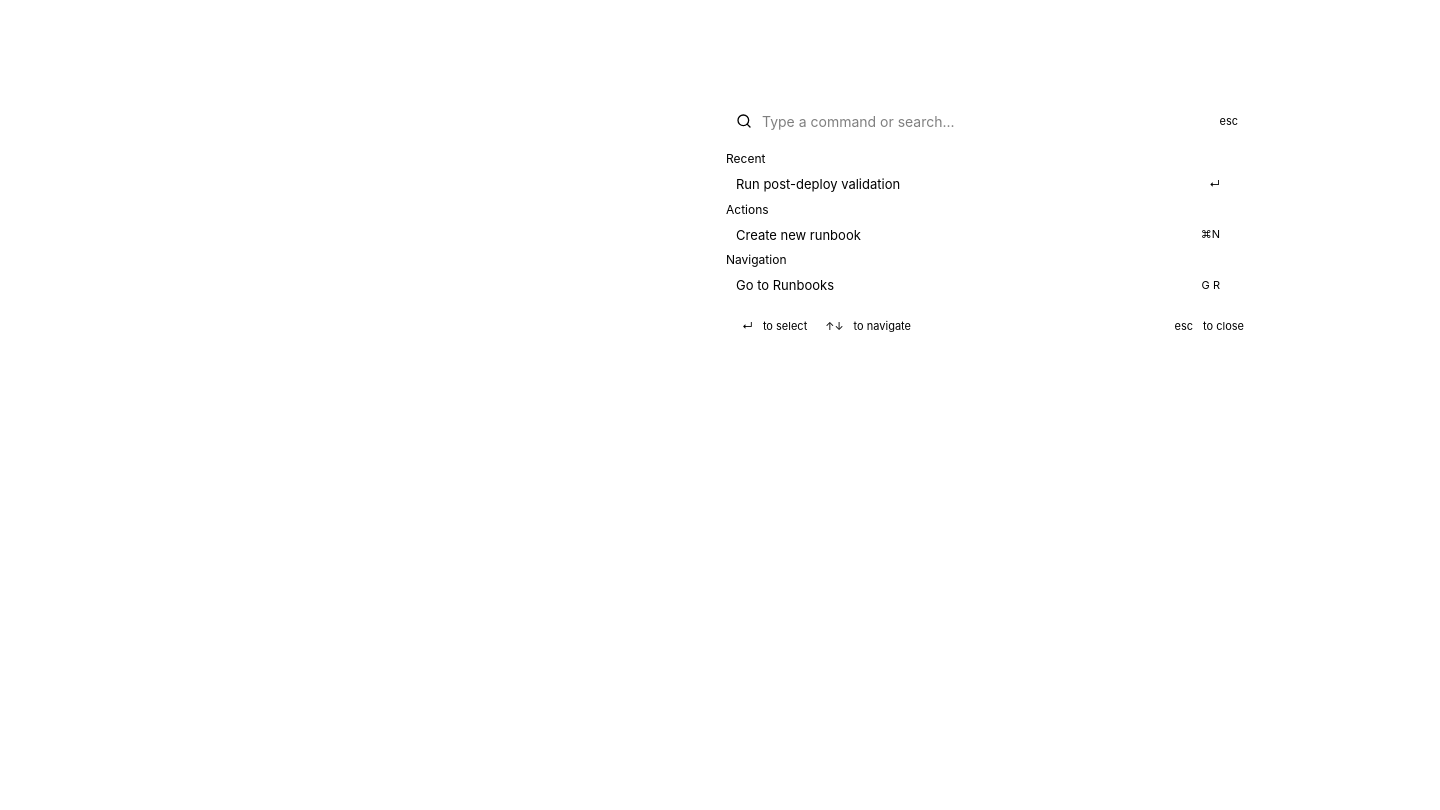
Test: CommandPalette › filters items when search input is typed
Type "validation" into the dropdown with placeholder "Type a command or search..." at x=983, y=121, box [762,97,1204,145]
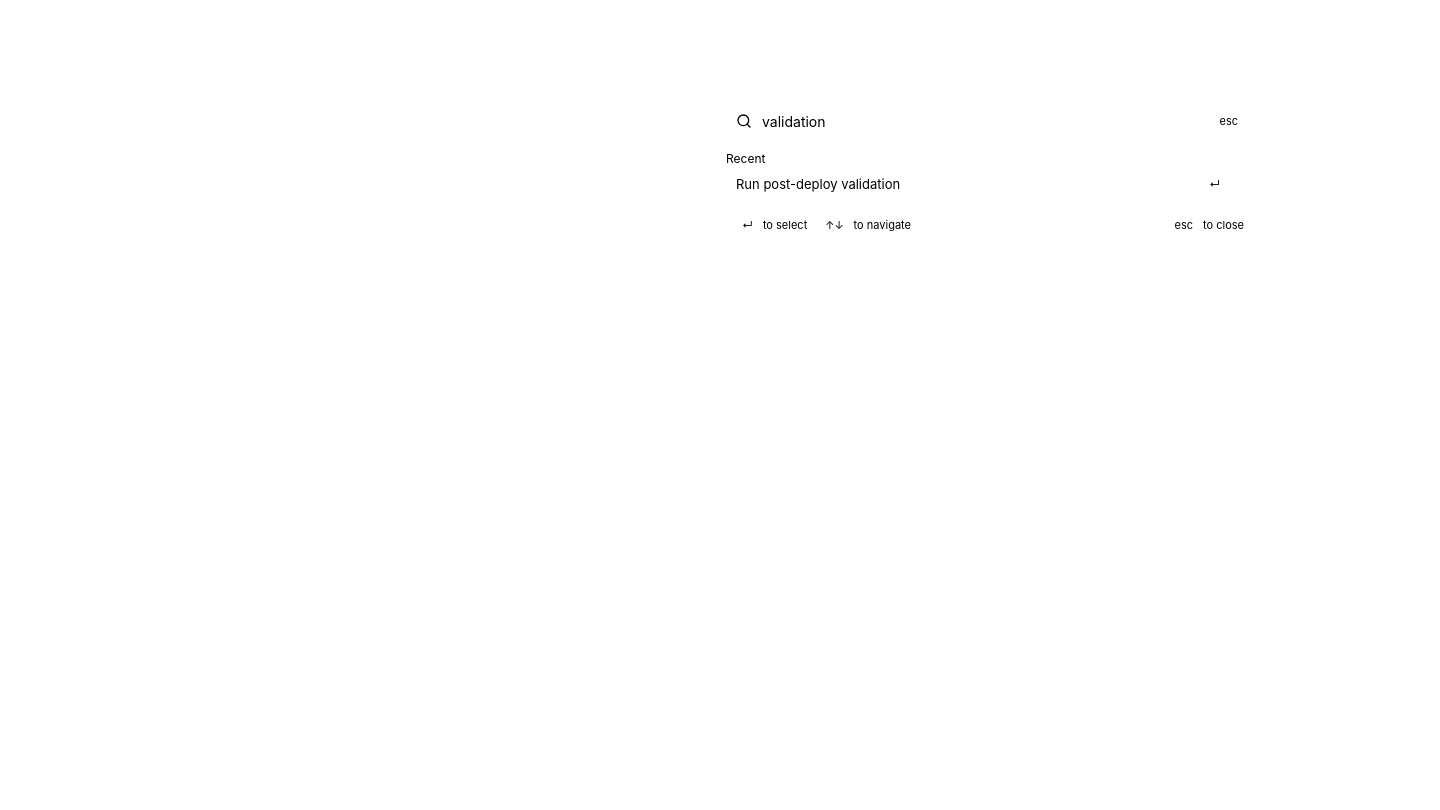
Expected: the text "Run post-deploy validation" is shown, [736,176,900,192]
Now the option "Create new runbook" is gone
